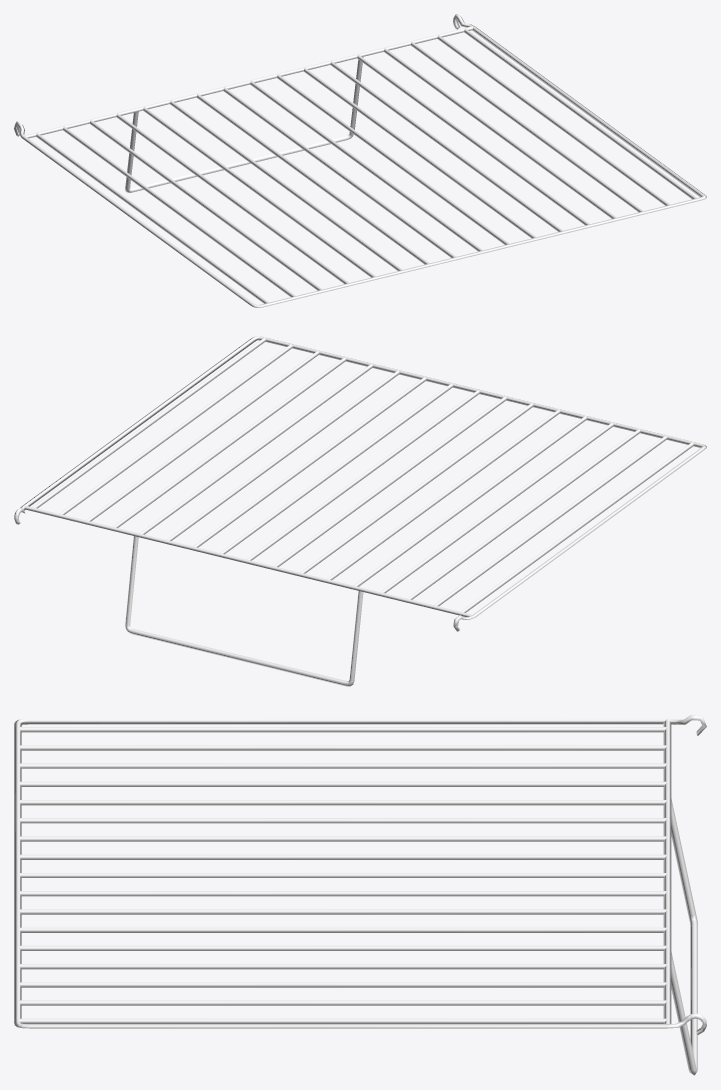
Rendered from Gabbia_muro_F.fbx.
3 renders of one model, top to bottom at view 1: azimuth 30°, elevation 25°; view 2: azimuth 150°, elevation 25°; view 3: azimuth 270°, elevation 25°, orthographic. The views are drawn at different scales.
Visible parts, largest first — view 1: mesh; view 2: mesh; view 3: mesh.
Boxes of the visible parts, x1,y1,x2,y2 form: mesh: (14,14,706,307); mesh: (14,336,706,686); mesh: (14,715,706,1075).
Size of what is drawn, in the model's own units: 5992 by 1241 by 5667.
Materials: 1 (1 with a texture image).
